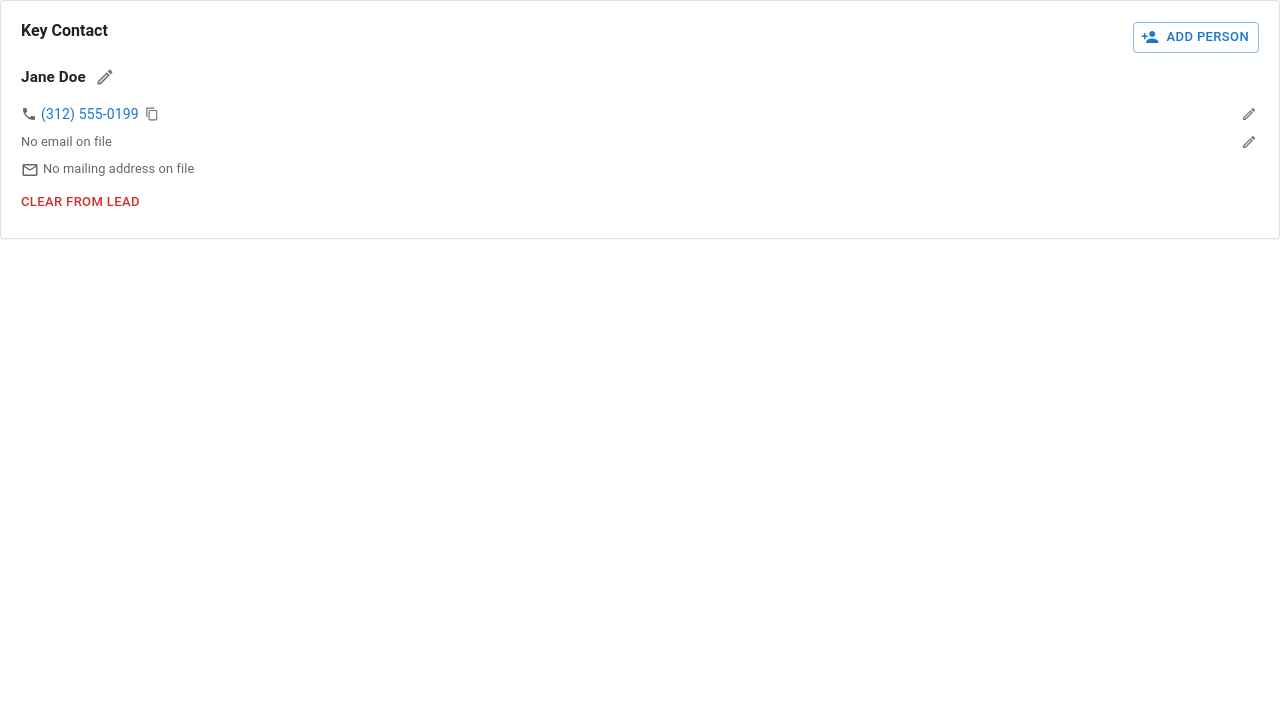
KeyContactCard › shows an error when inline phone save fails
This screenshot has width=1280, height=720.
Click the button with test id "key-contact-phone-edit": point(1249, 114) [1239,104,1259,124]
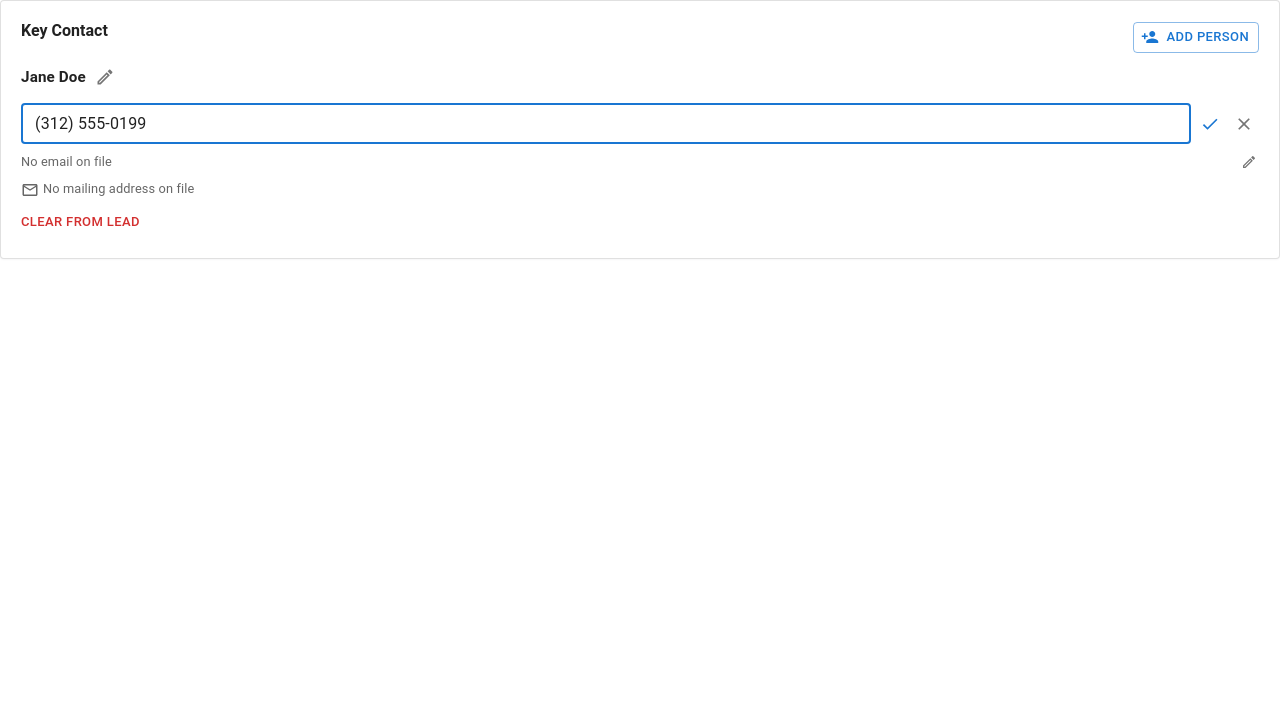
Replace the text in the field with test id "key-contact-phone-edit-input" with "(312) 600-0001": point(606, 124) [21,104,1191,144]
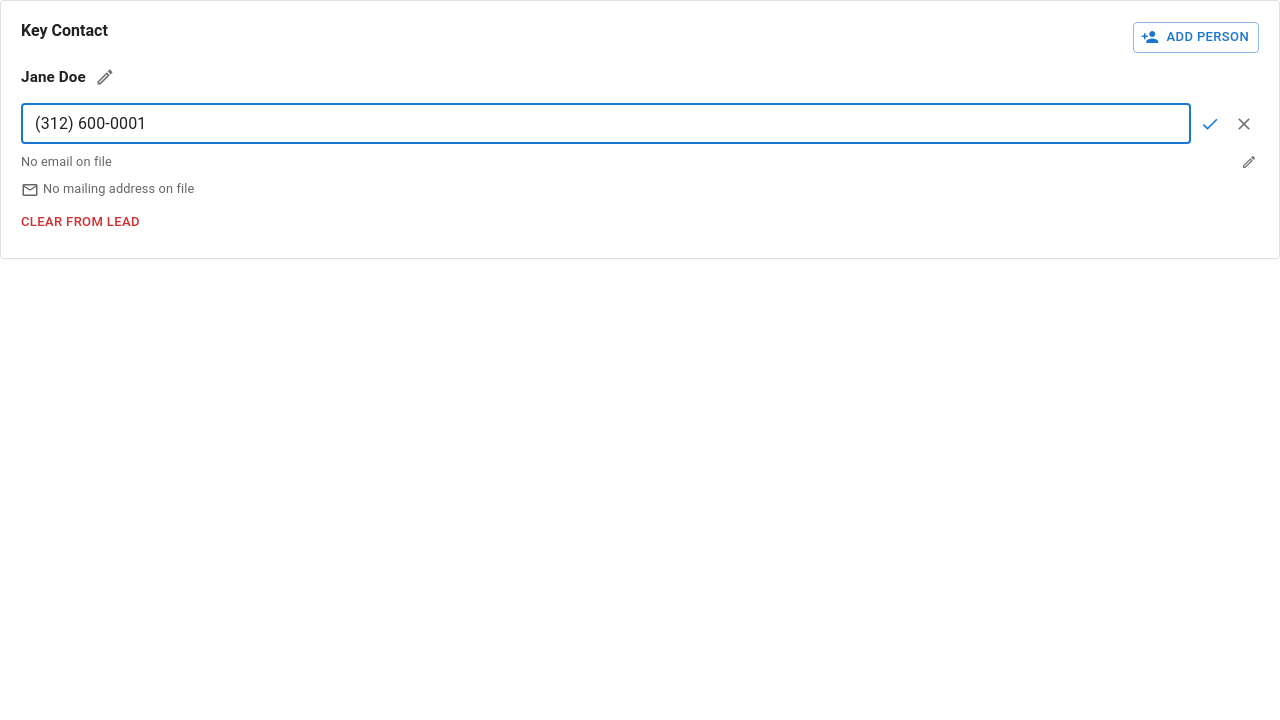
Click the button named "Save phone": point(1210, 124) [1195,109,1225,139]
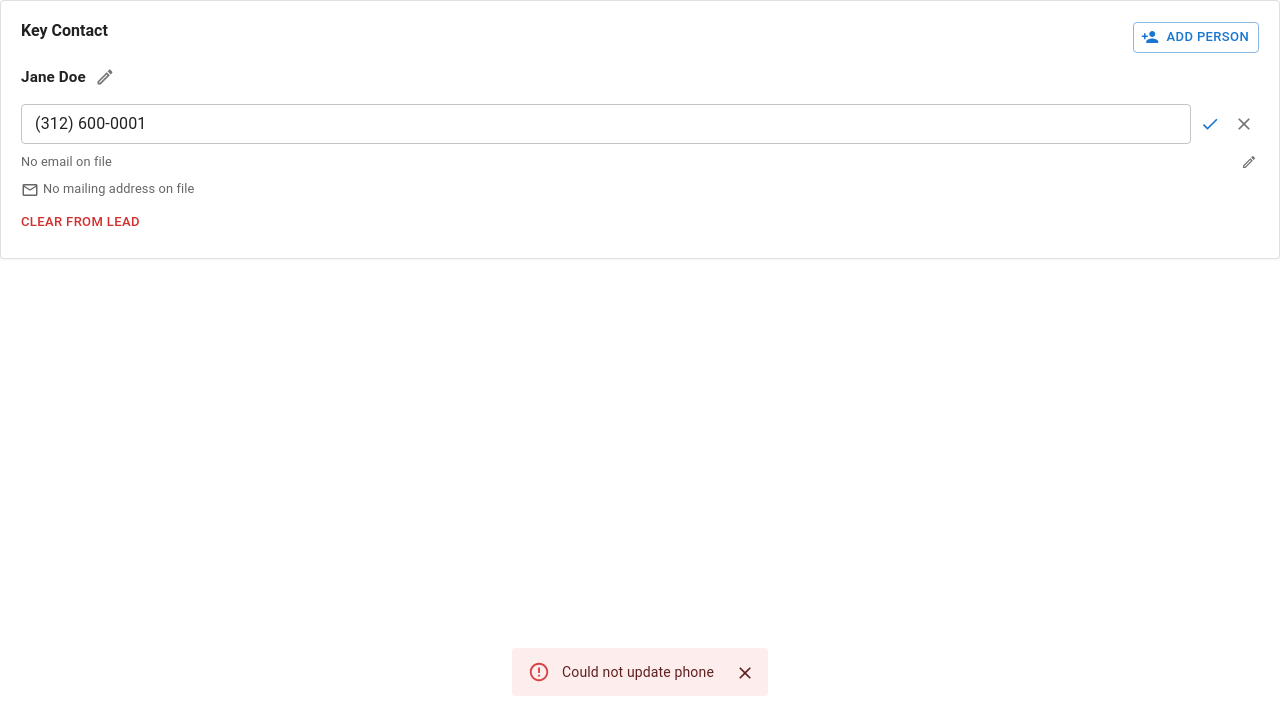
Check: the text "Could not update phone" is shown, box [562,664,714,680]
